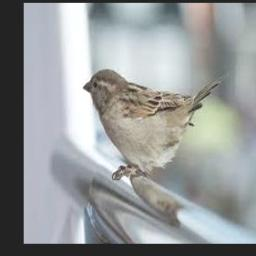Sparrow: (83, 70, 223, 180)
